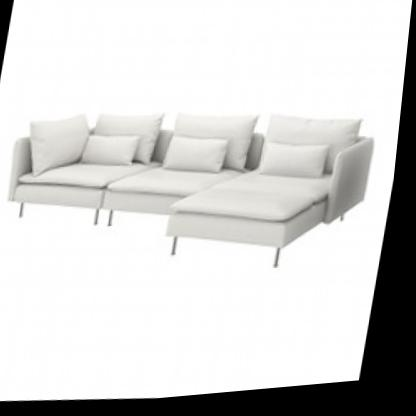Sofa: (0, 77, 393, 313)
